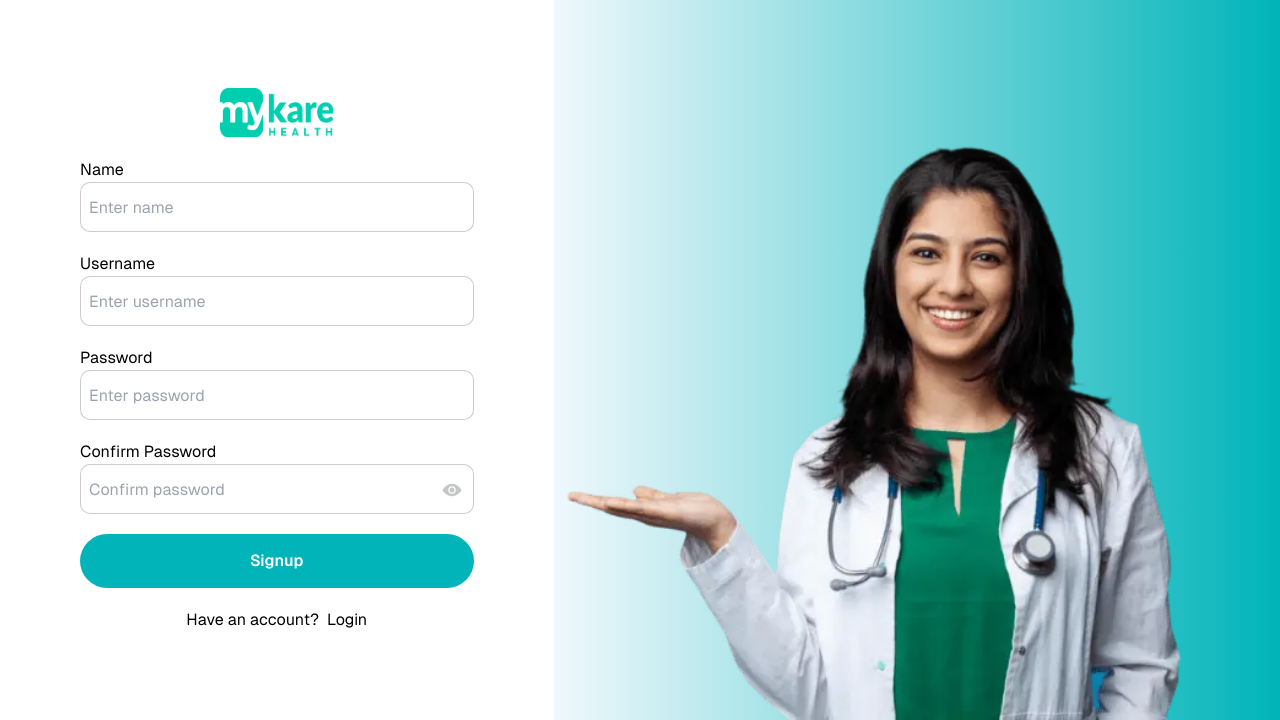
SignupView › shows validation errors when submitting empty form
Click the button "Signup" at (277, 561), box [80, 534, 474, 588]
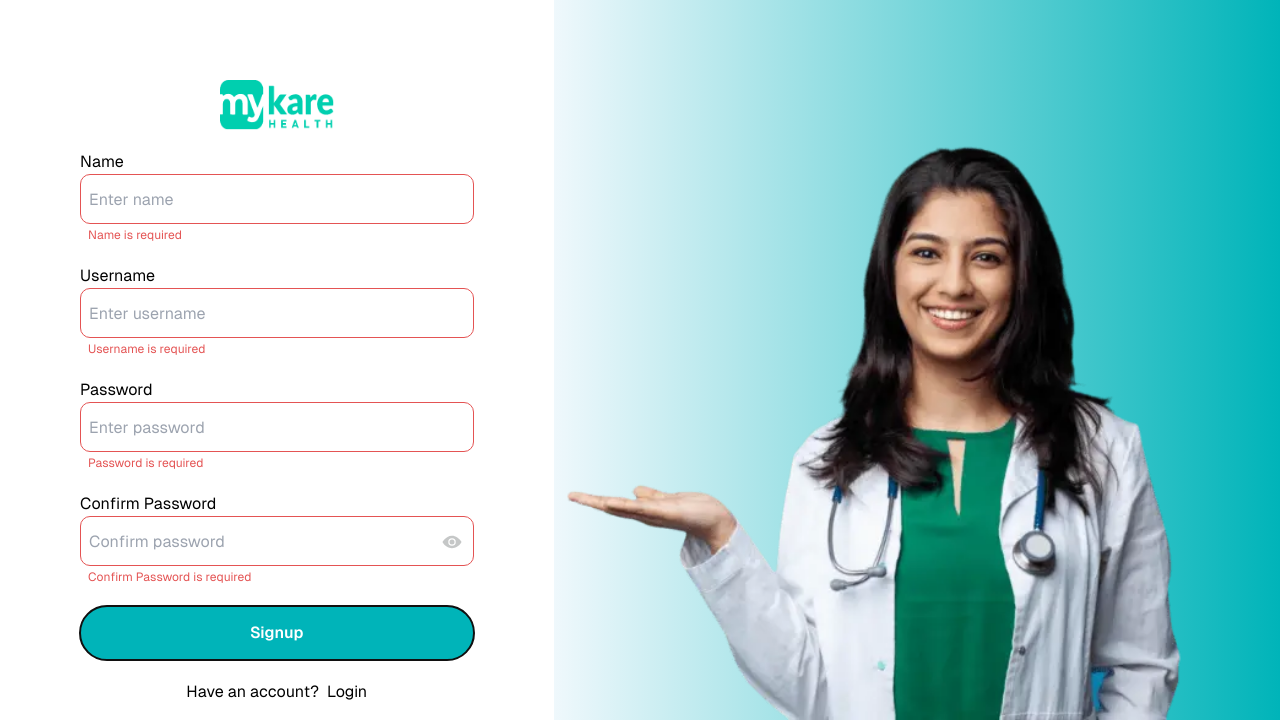
Check: the text "Name is required" is shown, box [88, 226, 182, 244]
Check: the text "Username is required" is shown, box [88, 340, 205, 358]
Check: the text "Password is required" is shown, box [88, 454, 204, 472]
